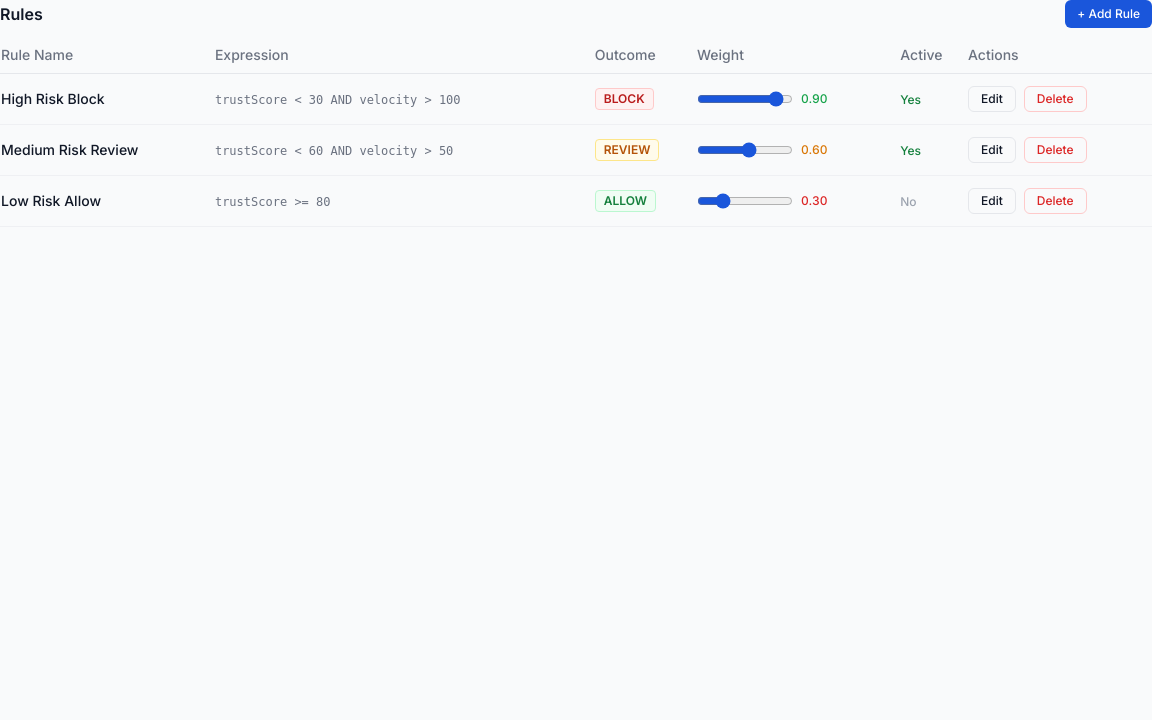
Test case: RulesTab › Edit button opens EditRuleModal
The width and height of the screenshot is (1152, 720).
Click the button with aria-label "Edit rule": (992, 99) x1=968 y1=86 x2=1016 y2=112
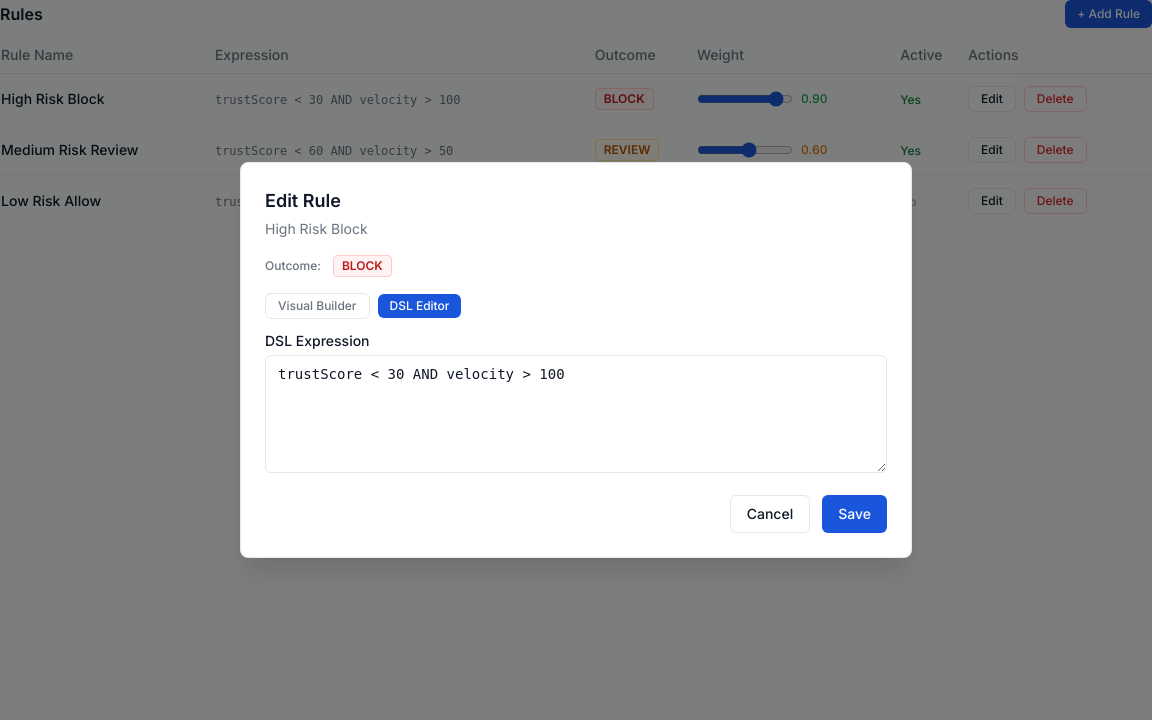
Now the dialog "Edit Rule" is shown
